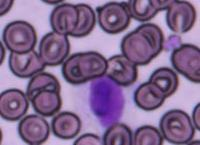L: (75, 73, 127, 130)
